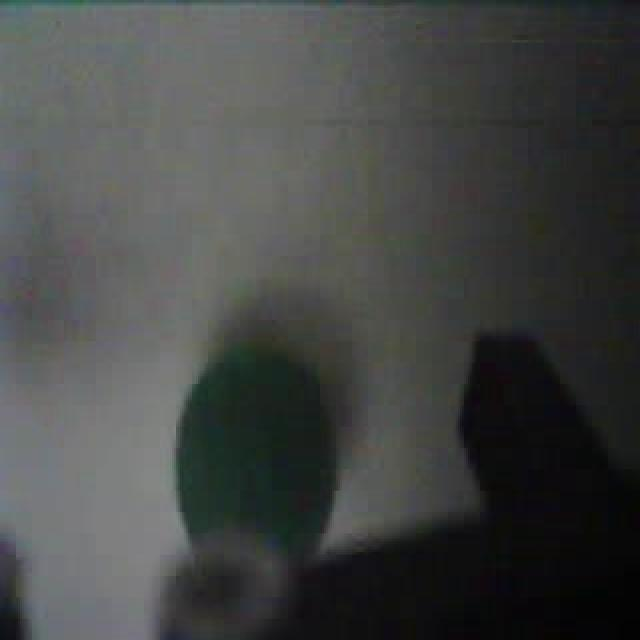green_ball: (172, 334, 340, 566)
